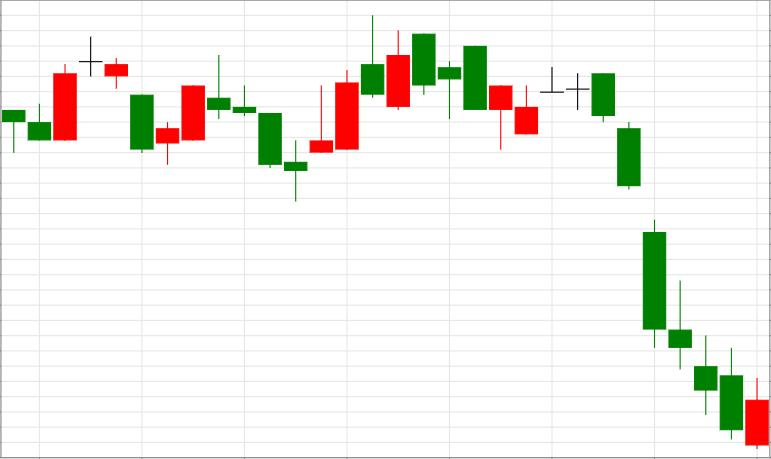shooting_star_fall: (284, 16, 384, 202)
